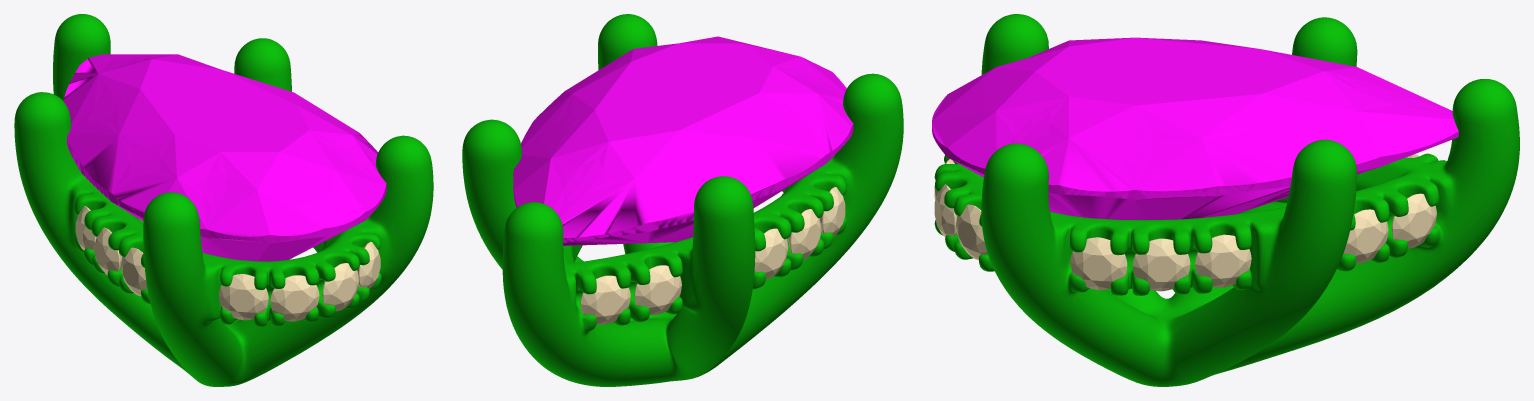
The picture shows the model from 3 angles, left to right: view 1: azimuth 30°, elevation 25°; view 2: azimuth 150°, elevation 25°; view 3: azimuth 270°, elevation 25°; orthographic projection. The views are drawn at different scales.
Parts seen in each view (by area): view 1: Metal01, Diamond_Pear, Diamond_Round.013, Diamond_Round.012, Diamond_Round.010, Diamond_Round.002, Diamond_Round.001, Diamond_Round.011, Diamond_Round; view 2: Metal01, Diamond_Pear, Diamond_Round.003, Diamond_Round.004, Diamond_Round, Diamond_Round.001, Diamond_Round.002; view 3: Metal01, Diamond_Pear, Diamond_Round.007, Diamond_Round.008, Diamond_Round.009, Diamond_Round.005, Diamond_Round.006, Diamond_Round.011, Diamond_Round.010.
Part boxes in pixels (x1,y1,x2,y2): Metal01: (14, 14, 433, 386); Diamond_Pear: (63, 54, 386, 261); Diamond_Round.013: (218, 274, 268, 320); Diamond_Round.012: (270, 275, 319, 321); Diamond_Round.010: (322, 263, 358, 311); Diamond_Round.002: (121, 247, 147, 296); Diamond_Round.001: (94, 227, 122, 275); Diamond_Round.011: (357, 241, 380, 288); Diamond_Round: (75, 206, 96, 250); Metal01: (462, 14, 903, 386); Diamond_Pear: (513, 36, 853, 245); Diamond_Round.003: (580, 275, 630, 324); Diamond_Round.004: (634, 265, 681, 314); Diamond_Round: (754, 228, 788, 279); Diamond_Round.001: (787, 209, 821, 260); Diamond_Round.002: (819, 187, 845, 236); Metal01: (934, 14, 1519, 386); Diamond_Pear: (932, 37, 1458, 219); Diamond_Round.007: (1070, 237, 1127, 290); Diamond_Round.008: (1132, 238, 1190, 291); Diamond_Round.009: (1195, 234, 1251, 287); Diamond_Round.005: (1343, 209, 1388, 263); Diamond_Round.006: (1391, 193, 1436, 248); Diamond_Round.011: (956, 204, 987, 259); Diamond_Round.010: (934, 184, 957, 236).
Size of the model in its own units: 7.11 by 6.45 by 11.23.
